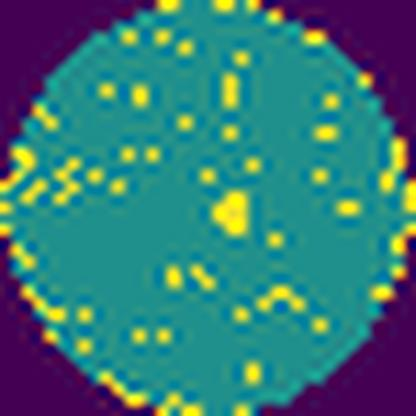Center: (204, 185, 255, 246)
